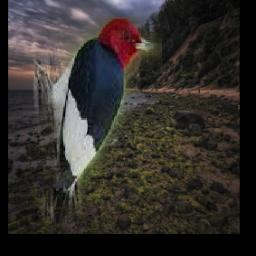Woodpecker: (33, 17, 162, 227)
